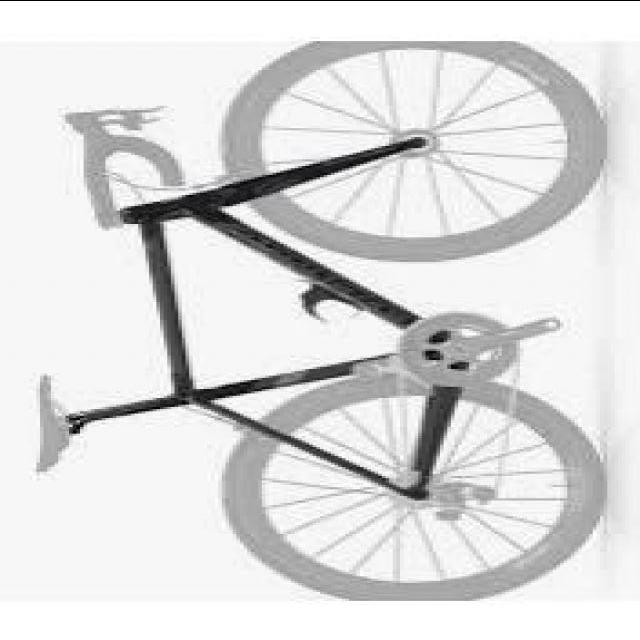bicycle: (34, 27, 602, 623)
